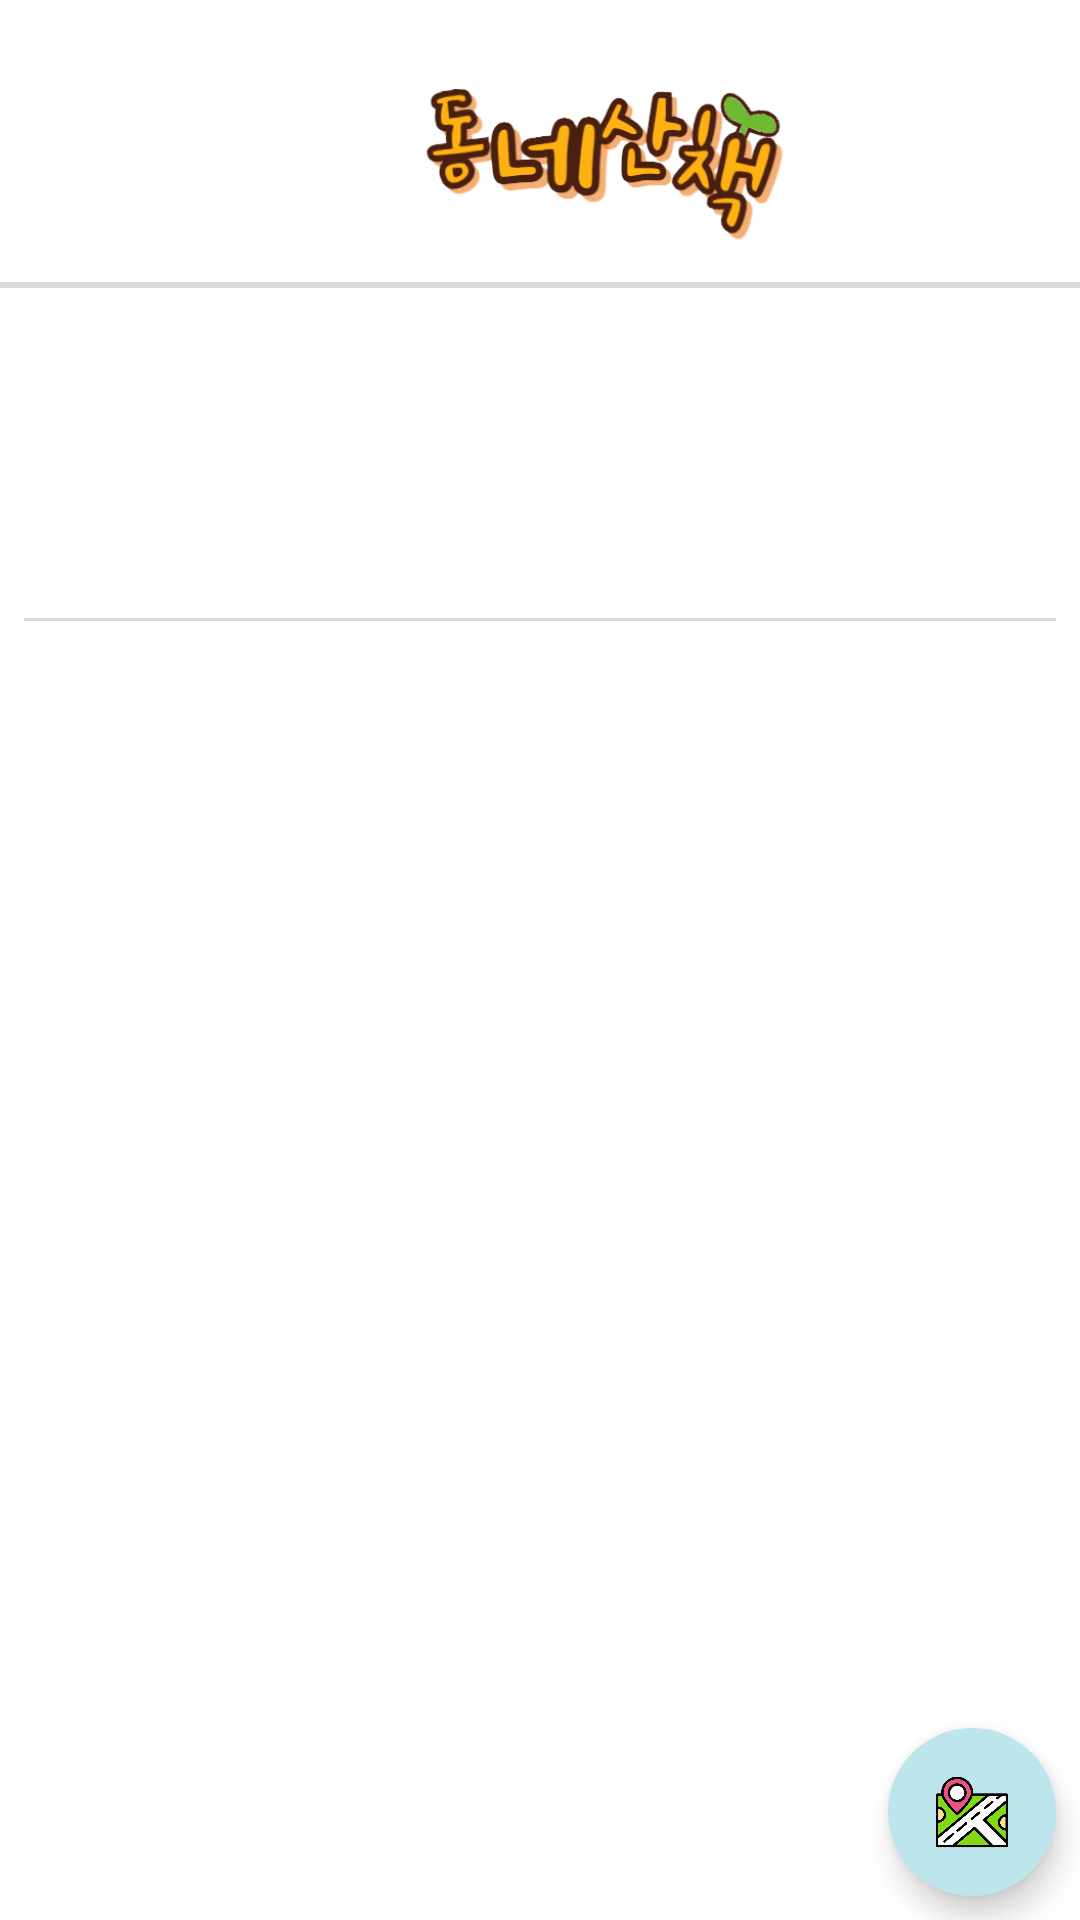

Where to tap for icons on this 1080px x 1920px app screen, as point (x, y):
map: point (972, 1812)
